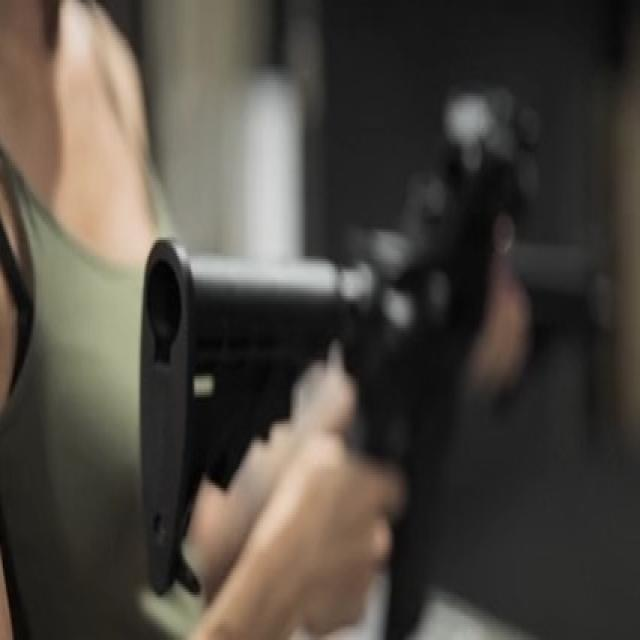Gun_Holder: (115, 0, 640, 603)
